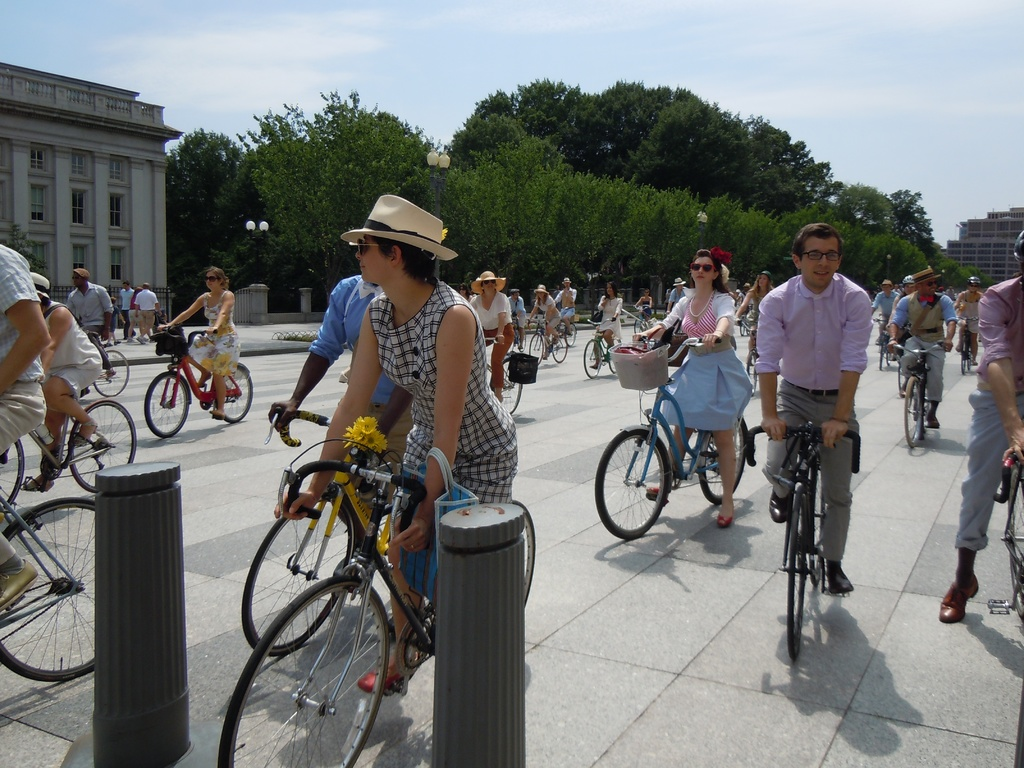Bike_toward: (227, 471, 536, 768), (570, 347, 754, 540), (738, 428, 866, 671)
